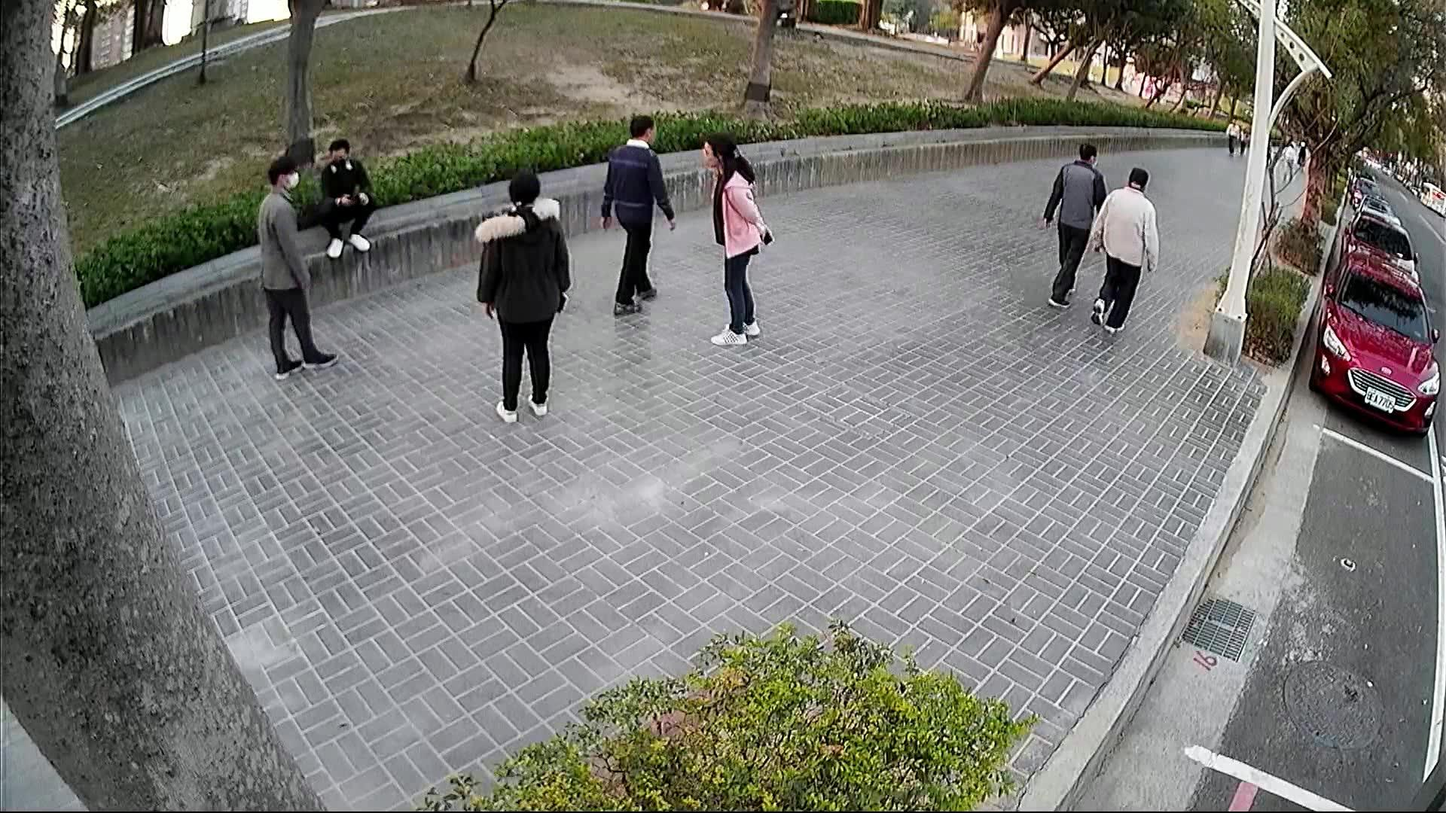person: (466, 164, 572, 429), (253, 147, 340, 385), (593, 105, 680, 322), (696, 126, 775, 346), (1083, 158, 1164, 336), (1036, 135, 1108, 312), (305, 133, 379, 258)
